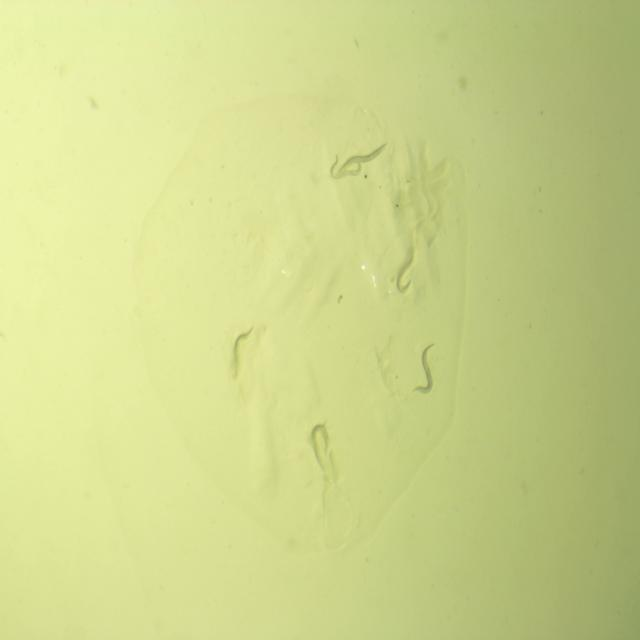worm: (336, 138, 390, 176), (408, 339, 440, 398), (230, 321, 258, 380), (391, 244, 420, 296), (307, 420, 331, 476), (326, 152, 364, 181)
